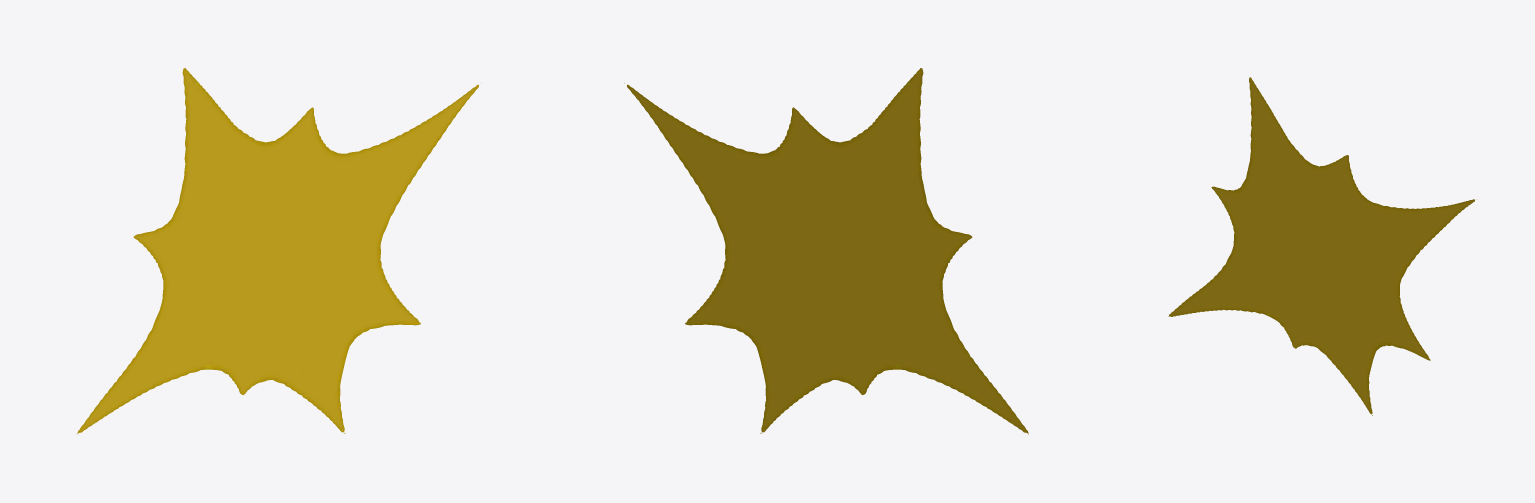
3 views of the same model, side by side, from view 1: azimuth 30°, elevation 25°; view 2: azimuth 150°, elevation 25°; view 3: azimuth 330°, elevation 25° (orthographic). The views are drawn at different scales.
Parts seen in each view (by area): view 1: Plane001; view 2: Plane001; view 3: Plane001.
Boxes of the visible parts, x1,y1,x2,y2 form: Plane001: (77,68,481,434); Plane001: (624,68,1028,434); Plane001: (1168,77,1474,415).
Size of the model in its own units: 199 by 5.06e-05 by 199.
